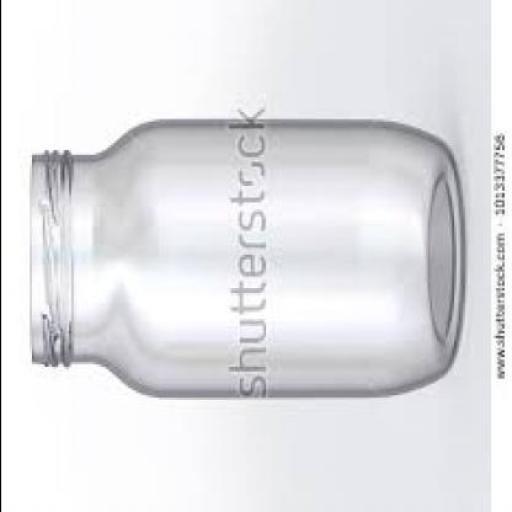glass: (26, 122, 461, 397)
